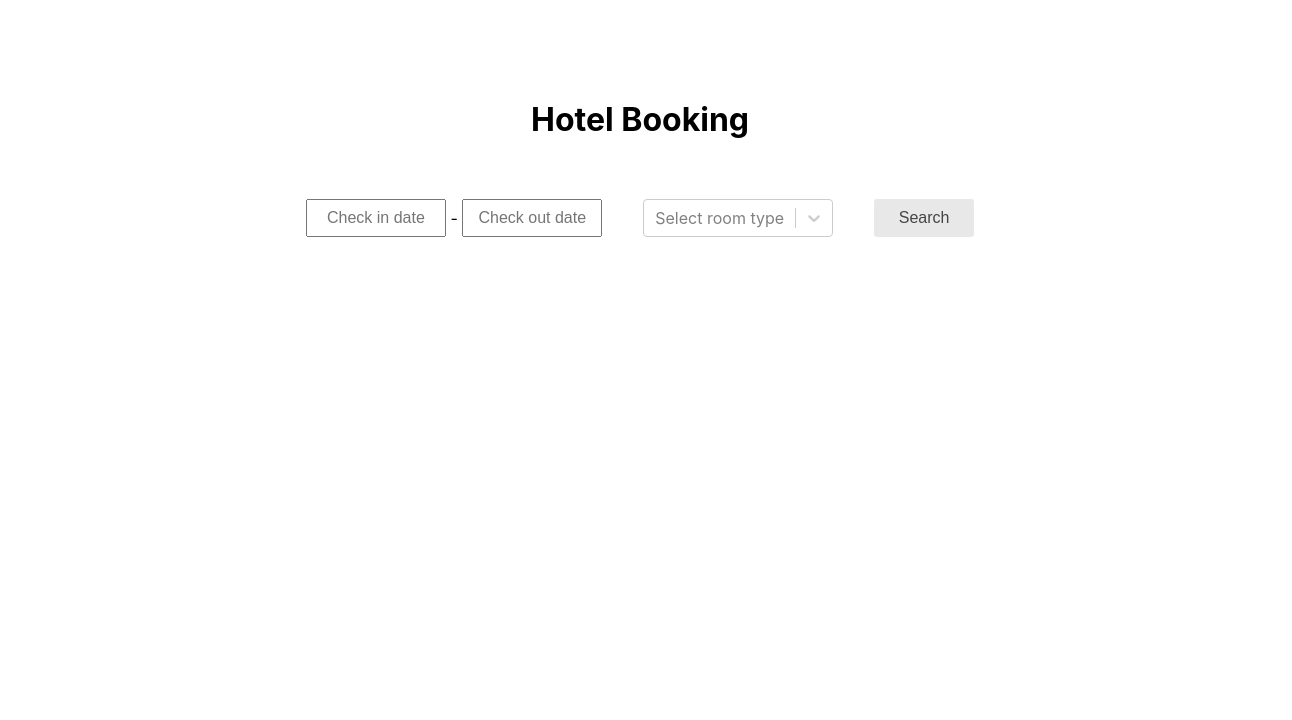
it: returns correct single rooms with booking status
Type "15/04/2022" into the field with placeholder "Check in date".
click(376, 218); type("15/04/2022")  # box [306,199,446,237]
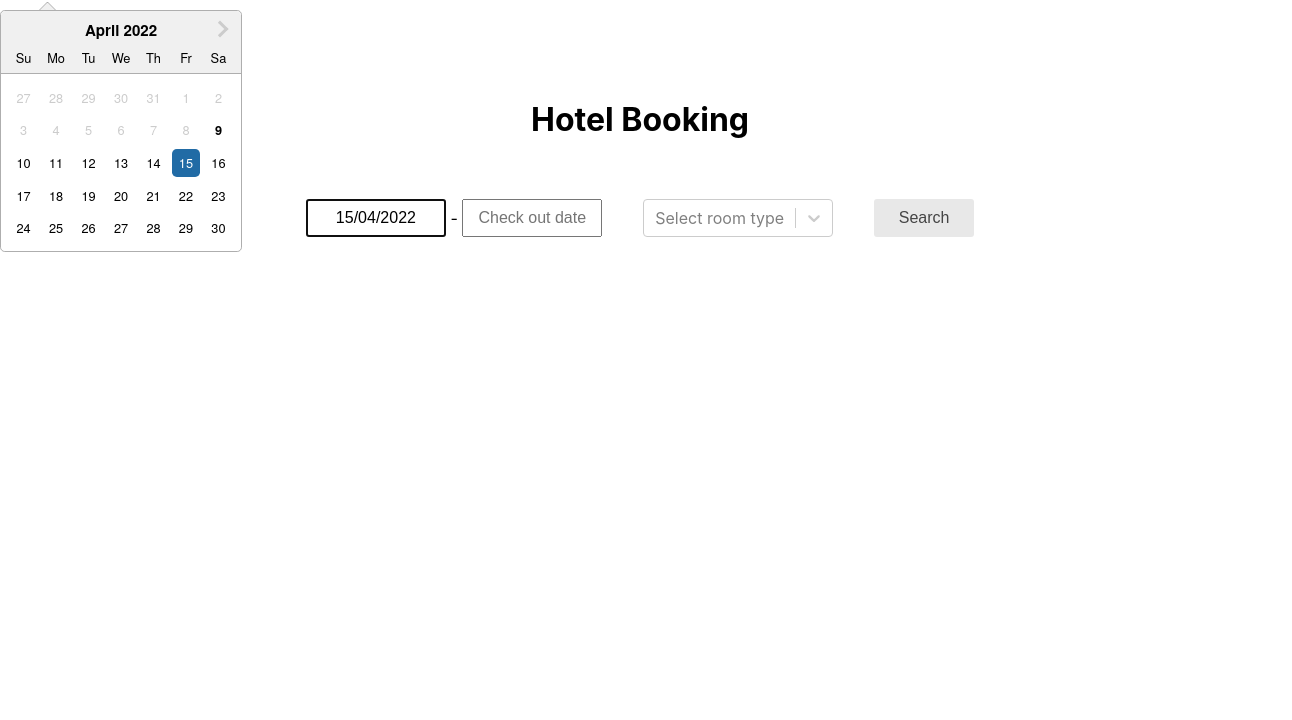
Type "27/04/2022" into the field with placeholder "Check out date".
click(532, 218); type("27/04/2022")  # box [462,199,602,237]
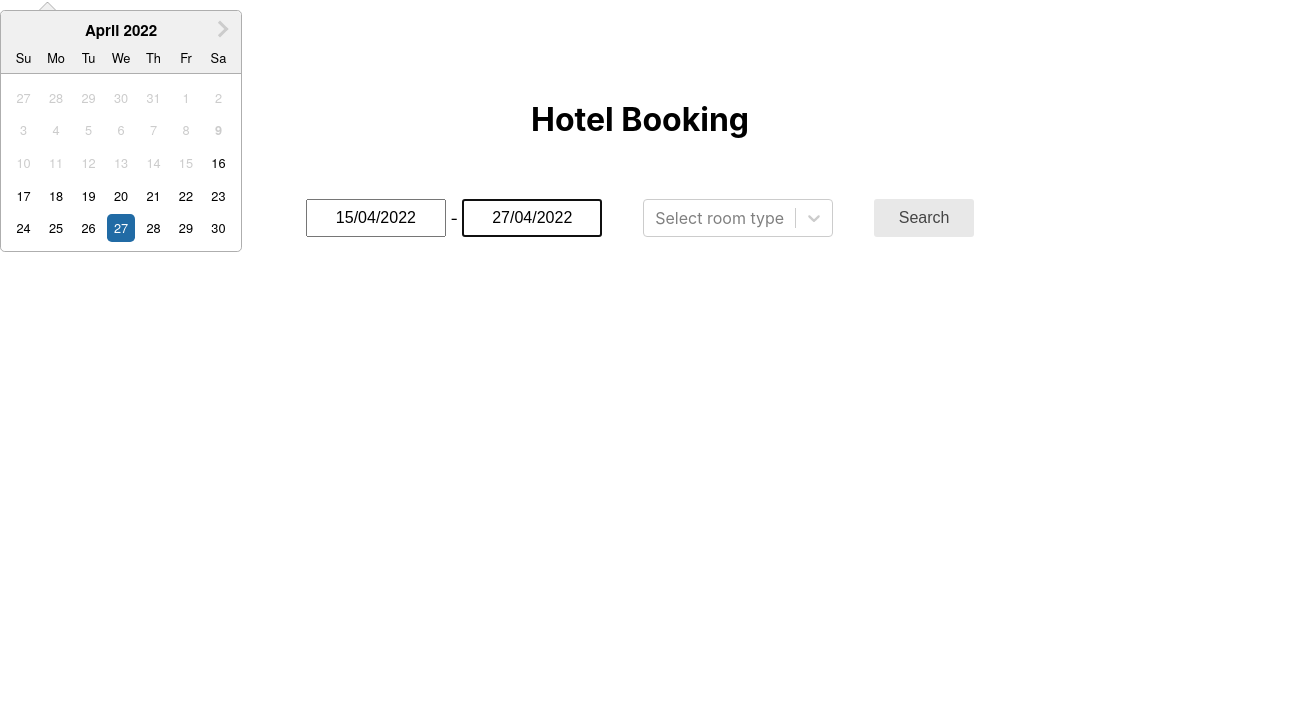
Click the element showing "Select room type".
click(738, 218)  # box [643,199,833,237]
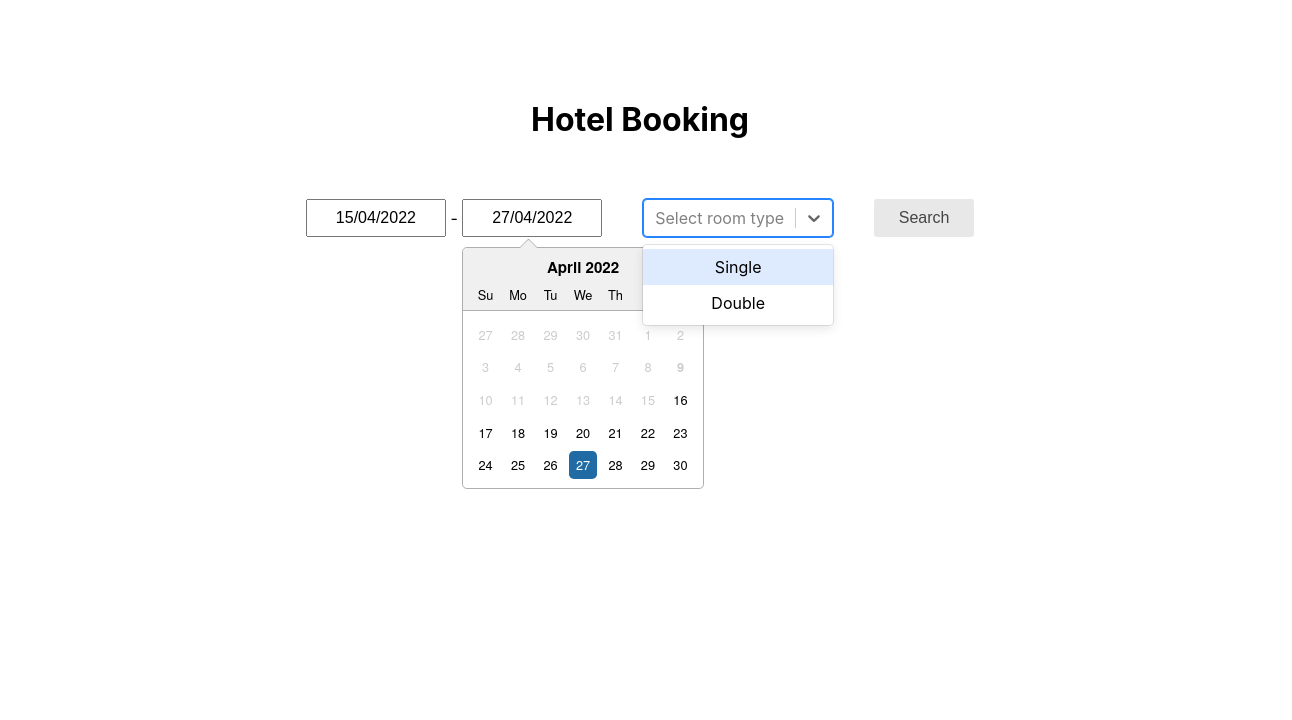
Click the option "Single".
click(738, 267)  # box [643,249,833,285]
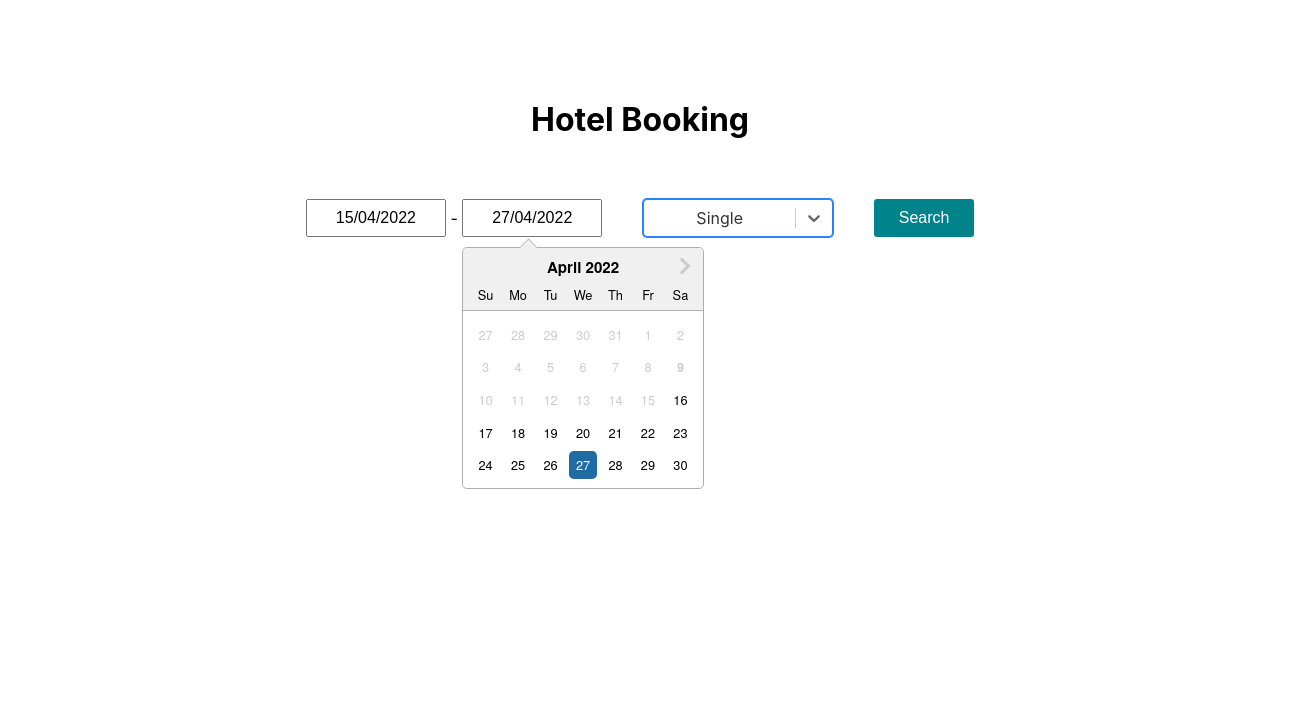
Click the button "Search".
click(924, 218)  # box [874,199,974,237]
(page scrolled)
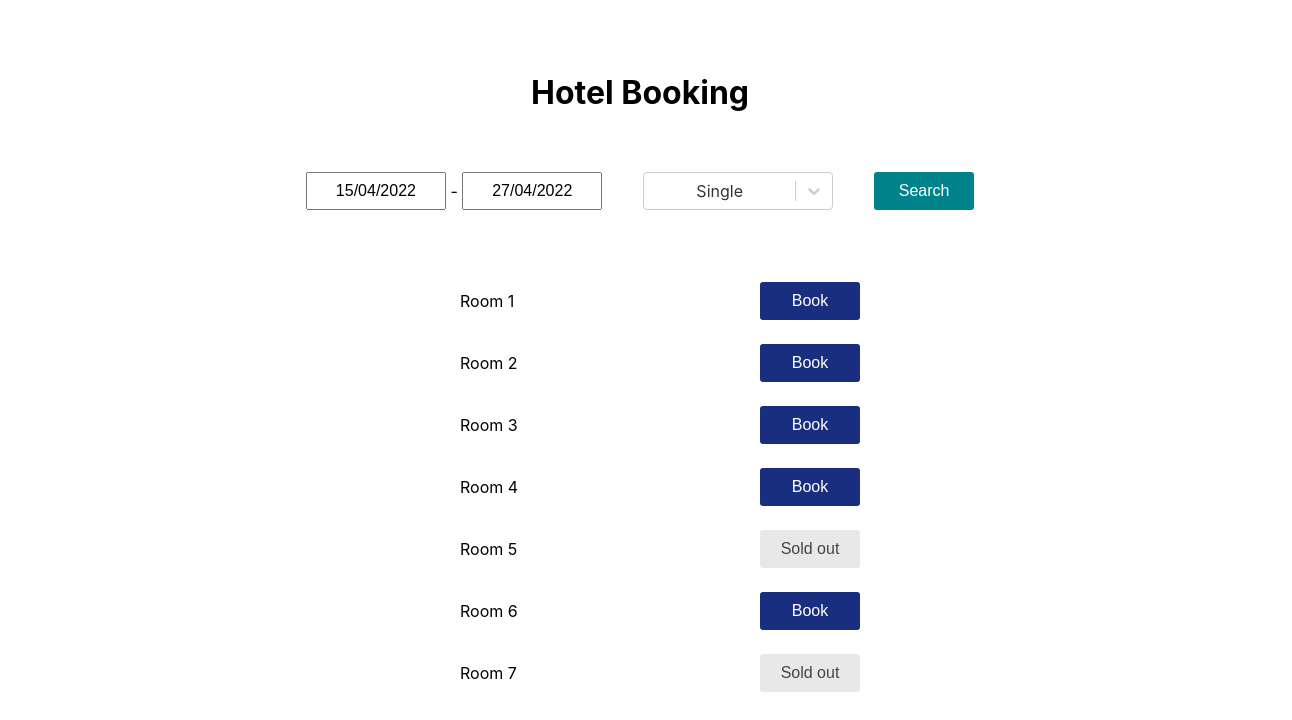
Result: the list is shown at [460,282,860,692]
Result: the number of buttons "Sold out" is 2 at [760,530,860,568]; [760,654,860,692]
